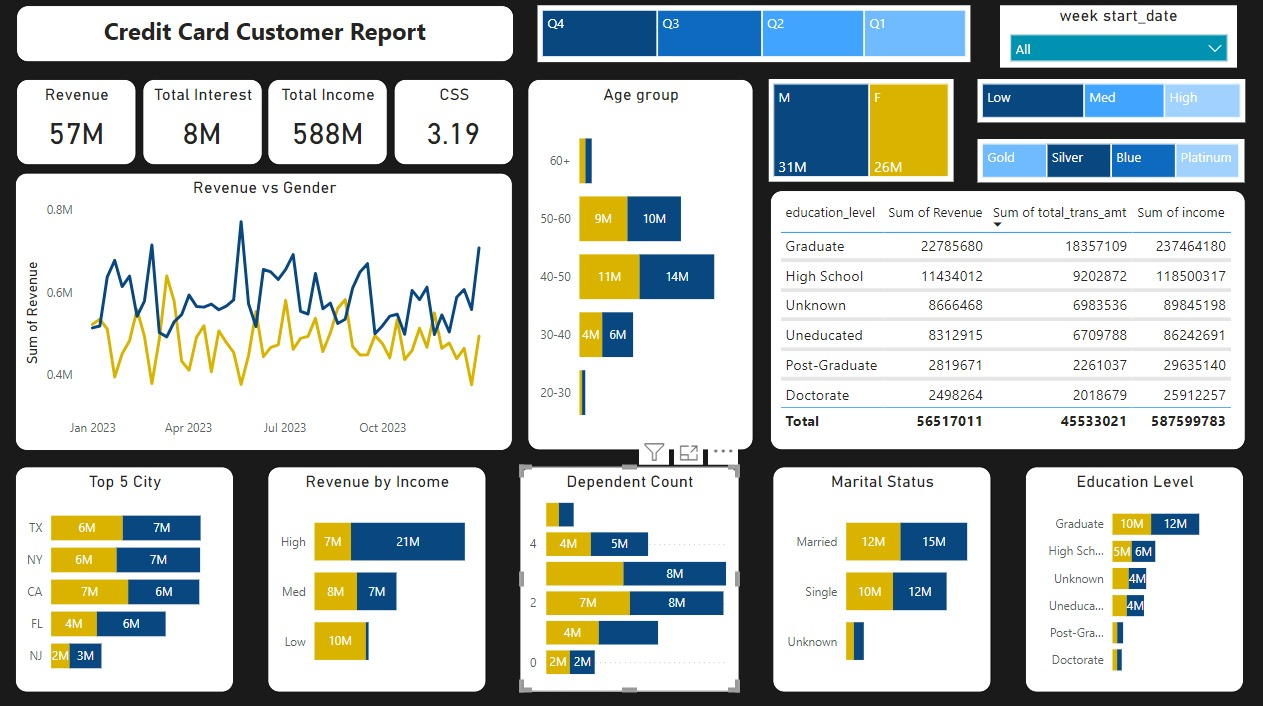

Layout of this report page (visuals, bound fields, positions):
{"tool":"powerbi","page":{"name":"Credit Card Customer Report","canvas":[1280,720],"ordinal":1},"visuals":[{"type":"textbox","box":[16.2,6.2,503.8,57.5],"z":0},{"type":"tableEx","fields":{"Values":["public cust_detail.education_level","Sum(public cc_detail.Revenue)","Sum(public cc_detail.total_trans_amt)","Sum(public cust_detail.income)"]},"box":[780,194.3,481.4,262.9],"z":2000},{"type":"card","title":"CSS","fields":{"Values":["Avg(public cust_detail.cust_satisfaction_score)"]},"box":[398.8,81.5,121.2,87.5],"z":3000},{"type":"slicer","title":"week start_date","fields":{"Values":["public cc_detail.week_start_date"]},"box":[1012.9,5.7,240,62.9],"z":4000},{"type":"treemap","fields":{"Group":["public cc_detail.qtr"],"Values":["Avg(public cc_detail.client_num)"]},"box":[543.8,6.2,438.8,57.5],"z":5000},{"type":"card","title":"Total Income","fields":{"Values":["Sum(public cust_detail.income)"]},"box":[271.2,81.5,121.2,87.5],"z":6000},{"type":"card","title":"Revenue","fields":{"Values":["Sum(public cc_detail.Revenue)"]},"box":[16.2,81.5,121.2,87.5],"z":7000},{"type":"card","title":"Total Interest","fields":{"Values":["Sum(public cc_detail.interest_earned)"]},"box":[143.8,81.5,121.2,87.5],"z":8000},{"type":"treemap","fields":{"Group":["public cust_detail.gender"],"Values":["Sum(public cc_detail.Revenue)"]},"box":[778.6,81.4,187.1,104.3],"z":9000},{"type":"lineChart","title":"Revenue vs Gender","fields":{"Y":["Sum(public cc_detail.Revenue)"],"Series":["public cust_detail.gender"],"Category":["public cc_detail.week_start_date.Variation.Date Hierarchy.Year","public cc_detail.week_start_date.Variation.Date Hierarchy.Quarter","public cc_detail.week_start_date.Variation.Date Hierarchy.Month","public cc_detail.week_start_date.Variation.Date Hierarchy.Day"]},"box":[15.7,175.7,504.3,281.4],"z":10000},{"type":"barChart","title":"Age group","fields":{"Y":["Sum(public cc_detail.Revenue)"],"Category":["public cust_detail.AgeGroup"],"Series":["public cust_detail.gender"]},"box":[534.3,81.4,228.6,375.7],"z":11000},{"type":"barChart","title":"Top 5 City","fields":{"Y":["Sum(public cc_detail.Revenue)"],"Category":["public cust_detail.state_cd"],"Series":["public cust_detail.gender"]},"box":[15.7,472.9,221.4,228.6],"z":14000},{"type":"treemap","fields":{"Values":["Avg(public cc_detail.client_num)"],"Group":["public cc_detail.card_category"]},"box":[990,141.4,270,44.3],"z":16000},{"type":"treemap","fields":{"Group":["public cust_detail.IncomeGroup"],"Values":["Sum(public cc_detail.client_num)"]},"box":[990,81.4,271.4,44.3],"z":17000},{"type":"barChart","title":"Marital Status","fields":{"Y":["Sum(public cc_detail.Revenue)"],"Series":["public cust_detail.gender"],"Category":["public cust_detail.marital_status"]},"box":[782.9,472.9,221.4,228.6],"z":19000},{"type":"barChart","title":"Revenue by Income","fields":{"Y":["Sum(public cc_detail.Revenue)"],"Series":["public cust_detail.gender"],"Category":["public cust_detail.IncomeGroup"]},"box":[271.4,472.9,221.4,228.6],"z":20000},{"type":"barChart","title":"Dependent Count","fields":{"Y":["Sum(public cc_detail.Revenue)"],"Series":["public cust_detail.gender"],"Category":["public cust_detail.dependent_count"]},"box":[527.1,472.9,221.4,228.6],"z":21000},{"type":"barChart","title":"Education Level","fields":{"Y":["Sum(public cc_detail.Revenue)"],"Series":["public cust_detail.gender"],"Category":["public cust_detail.education_level"]},"box":[1038.6,472.9,221.4,228.6],"z":22000}]}

Visuals, with their boxes in screenshot pixels (x1, y1, x2, y2), scaled from the page's 1280x720 canvas onto the 1263x706 screenshot:
textbox: [16,6,513,62]
tableEx - public cust_detail.education_level x Sum(public cc_detail.Revenue): [770,191,1245,448]
"CSS" card: [394,80,513,166]
"week start_date" slicer: [999,6,1236,67]
treemap - public cc_detail.qtr x Avg(public cc_detail.client_num): [537,6,970,62]
"Total Income" card: [268,80,387,166]
"Revenue" card: [16,80,136,166]
"Total Interest" card: [142,80,261,166]
treemap - public cust_detail.gender x Sum(public cc_detail.Revenue): [768,80,953,182]
"Revenue vs Gender" lineChart: [15,172,513,448]
"Age group" barChart: [527,80,753,448]
"Top 5 City" barChart: [15,464,234,688]
treemap - Avg(public cc_detail.client_num) x public cc_detail.card_category: [977,139,1243,182]
treemap - public cust_detail.IncomeGroup x Sum(public cc_detail.client_num): [977,80,1245,123]
"Marital Status" barChart: [773,464,991,688]
"Revenue by Income" barChart: [268,464,486,688]
"Dependent Count" barChart: [520,464,739,688]
"Education Level" barChart: [1025,464,1243,688]
